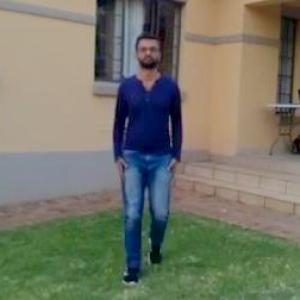follow: (112, 24, 184, 244)
